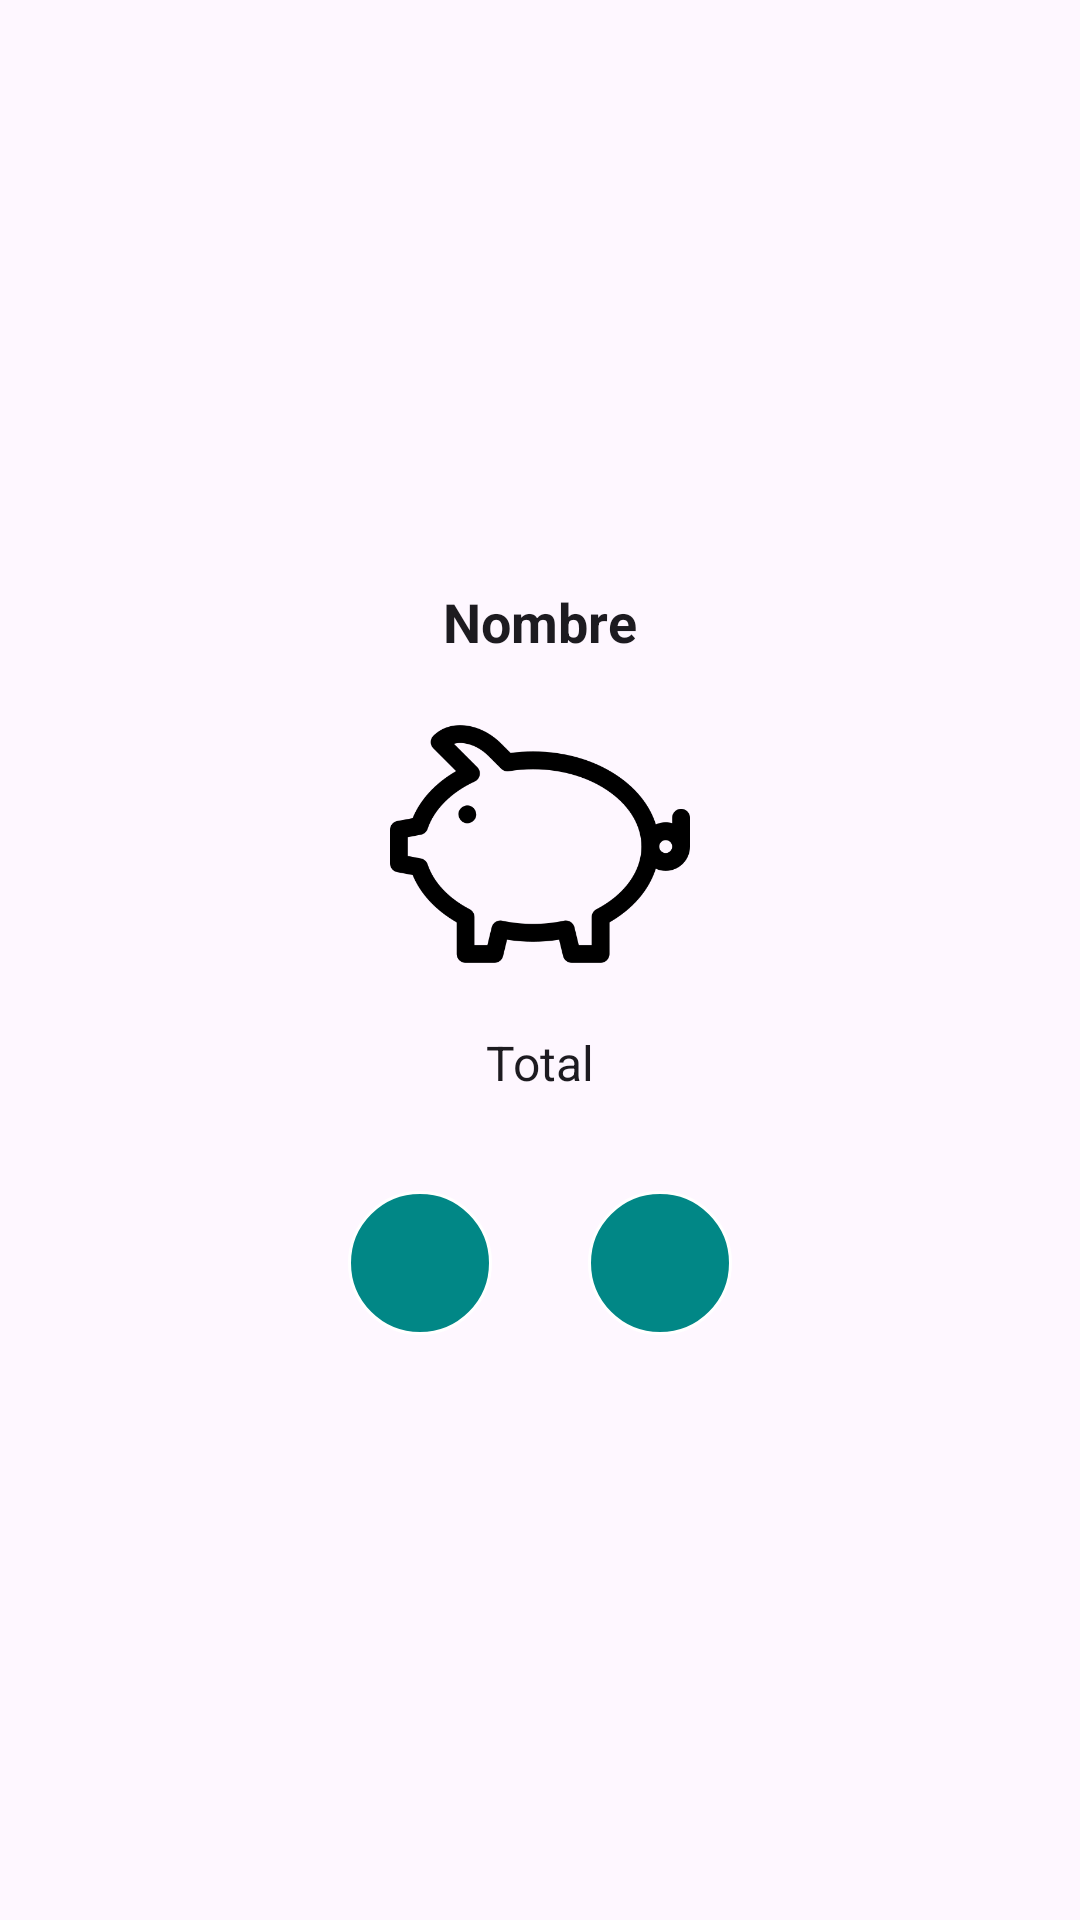

Icon bounding boxes for this 1080×1920 phone screenshot, format {"x1": x1, "y1": y1, "x2": x2, "y2": y2}:
tunco: {"x1": 390, "y1": 725, "x2": 690, "y2": 963}
